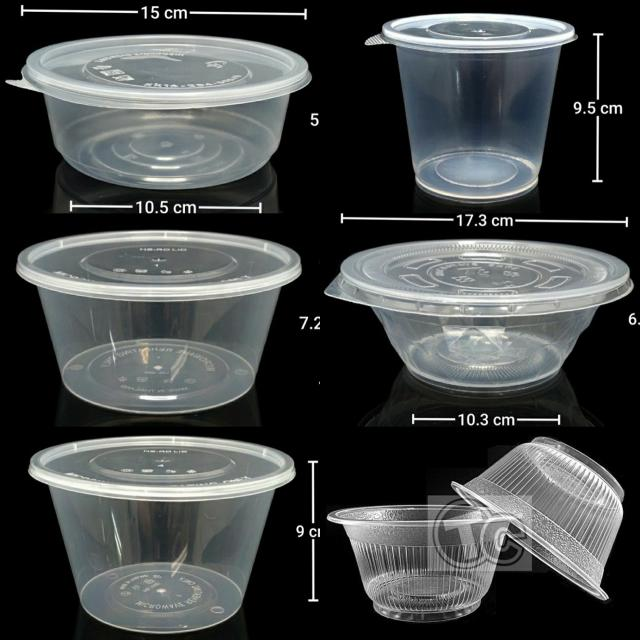Single-Use-Plastic: (16, 230, 301, 414), (29, 436, 295, 633), (8, 35, 311, 189), (325, 240, 633, 391), (365, 14, 577, 202), (452, 438, 624, 600), (328, 505, 509, 622)
